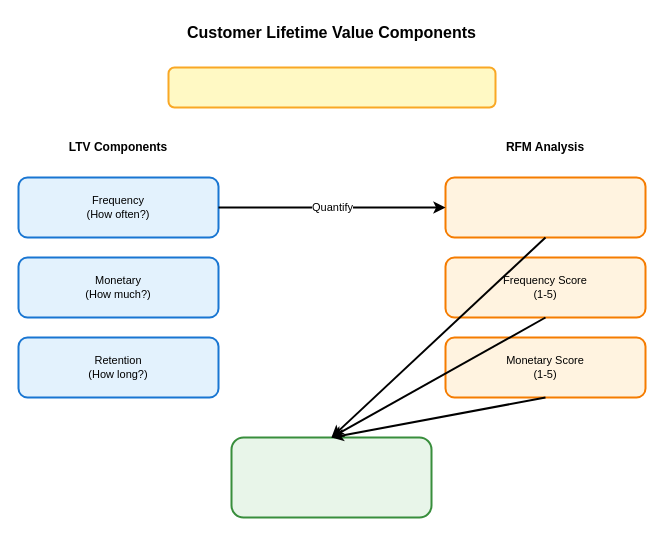
The diagram is 663 pixels wide and 535 high, and some of its shapes have lost their labels. The box of each missing label's shape, as (x1, y1, x2, y2) in pixels:
Customer Segment e.g., 555 = Best Customer: (230, 436, 432, 518)
LTV = Σ (Margin × Retention^t) / (1 + Discount)^t: (167, 66, 496, 108)
Recency Score (1-5): (444, 176, 646, 238)
